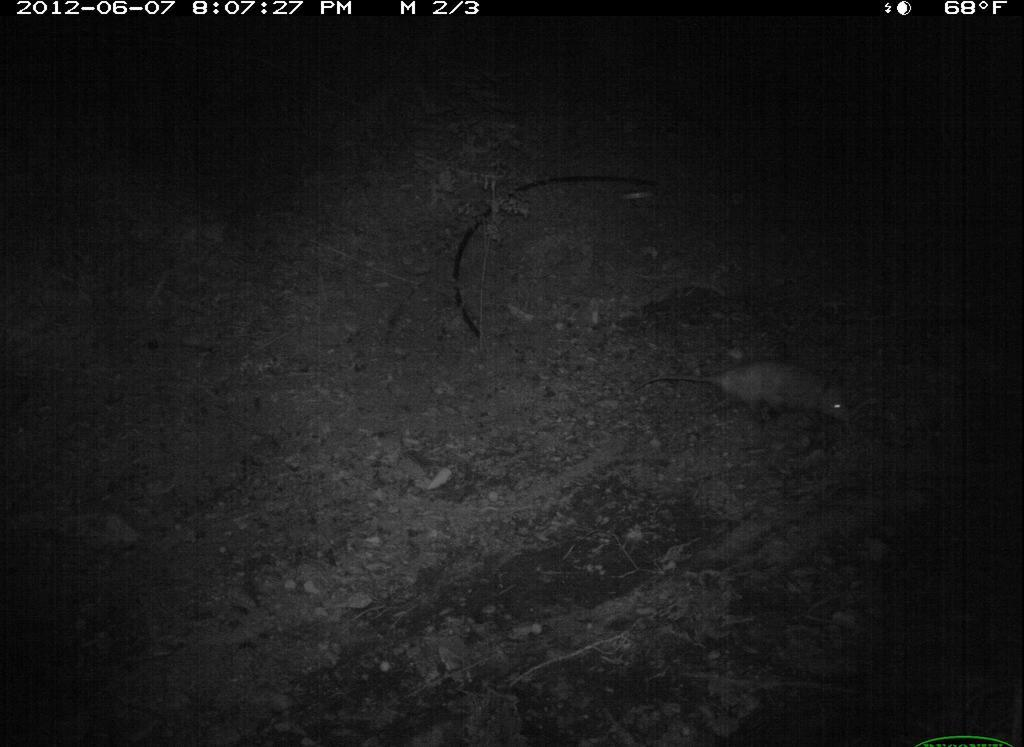opossum: (658, 346, 873, 441)
